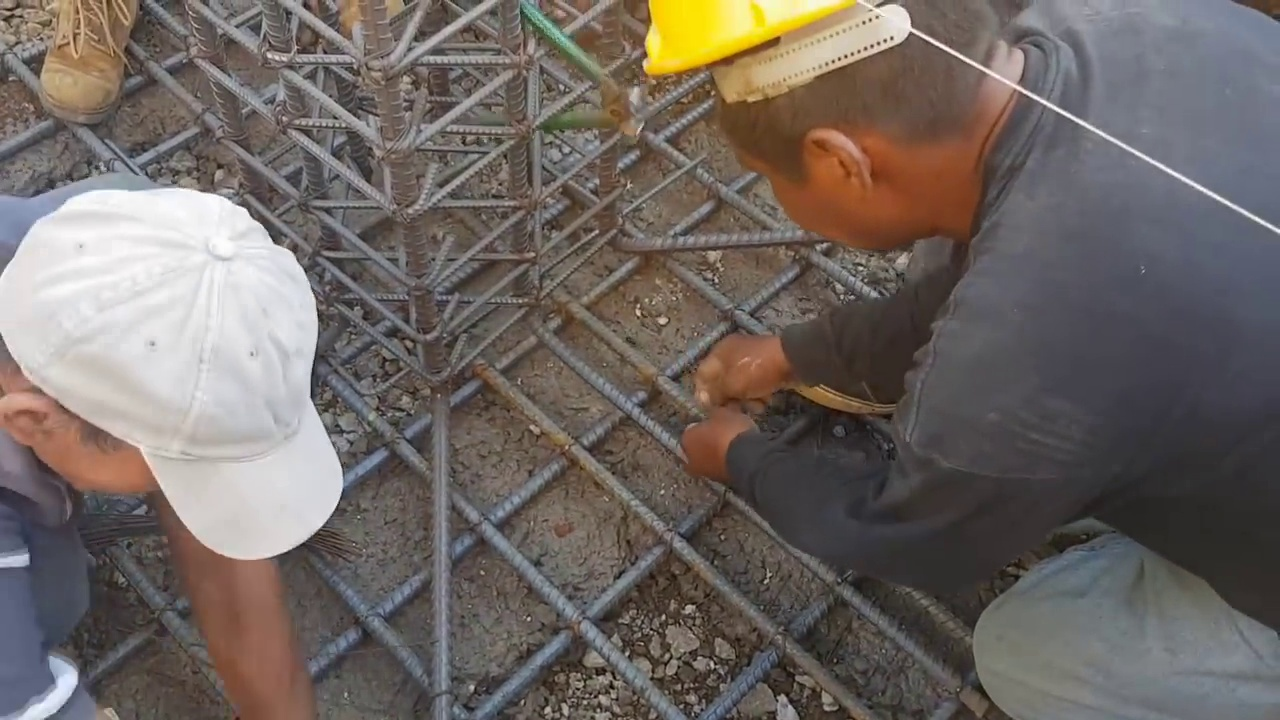helmet: (635, 0, 857, 92)
helmet-off: (0, 197, 340, 569)
helmet-on: (631, 0, 1039, 258)
person: (629, 1, 1277, 720), (0, 178, 346, 718)
